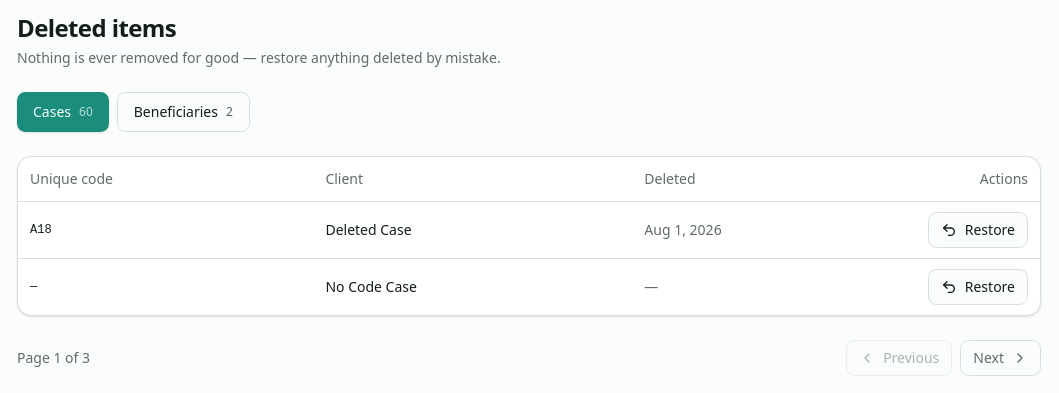
Test case: DeletedPage — the admin restore desk (UC-063) › switches to the beneficiaries released with those cases
What coordinates should you click on to do the following:
click the button "Beneficiaries 2"
I would click on:
 (183, 112)
Its box is [117,92,250,132].
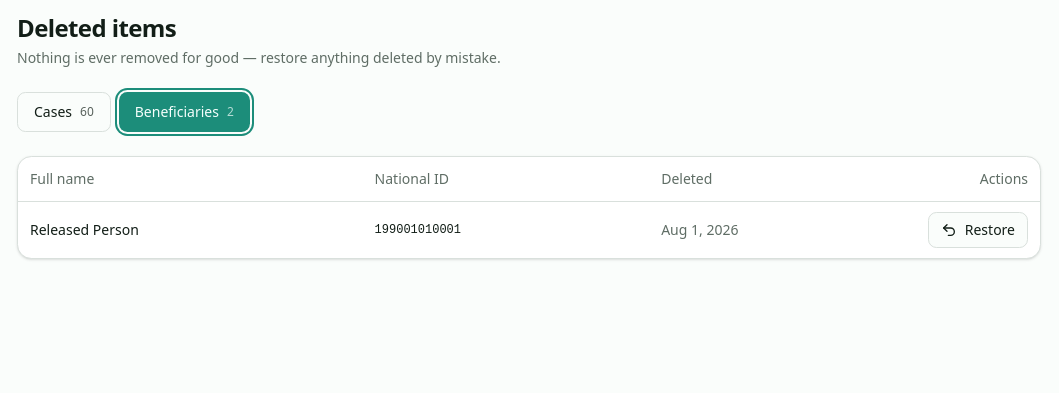
Now the text "Released Person" is shown, box [18,201,363,258]
Now the text "199001010001" is shown, box [363,201,649,258]
